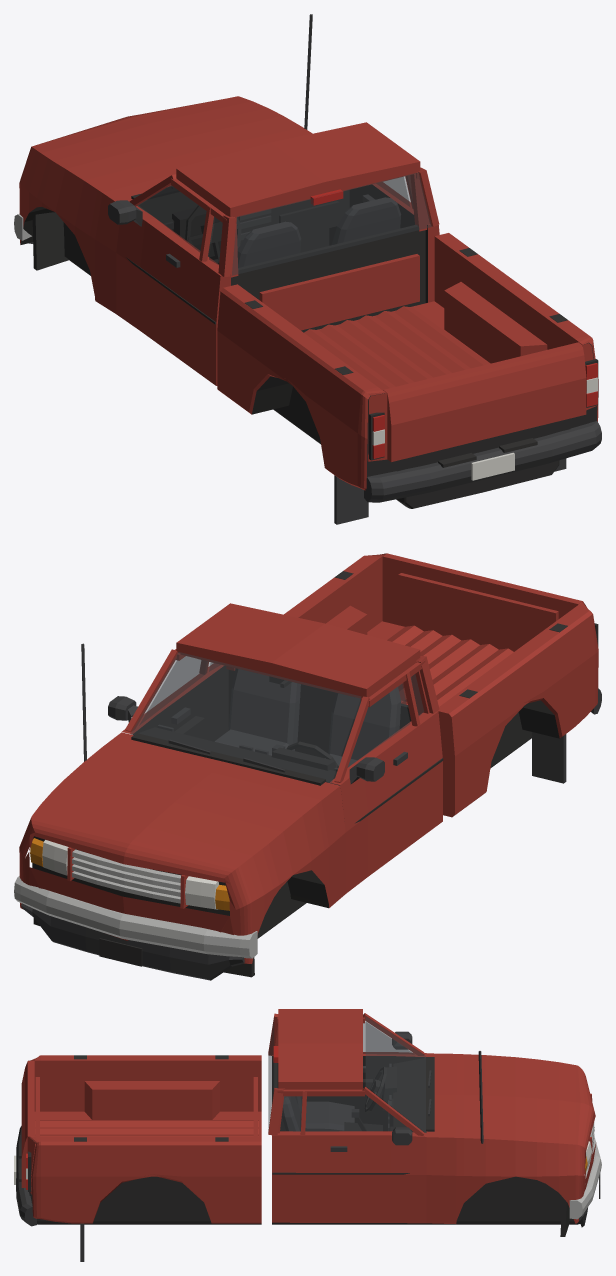
Rendered from ranger.glb.
3 views of the same model, one above another, from view 1: azimuth 30°, elevation 25°; view 2: azimuth 150°, elevation 25°; view 3: azimuth 270°, elevation 25° (orthographic). The views are drawn at different scales.
Parts seen in each view (by area): view 1: Ranger, RangerGlassPanes, SteeringWheel; view 2: Ranger, RangerGlassPanes; view 3: Ranger, RangerGlassPanes, SteeringWheel.
Boxes of the visible parts, x1,y1,x2,y2 form: Ranger: (14, 14, 601, 524); RangerGlassPanes: (139, 172, 431, 275); SteeringWheel: (185, 205, 241, 262); Ranger: (14, 553, 601, 980); RangerGlassPanes: (130, 652, 423, 783); Ranger: (14, 1009, 601, 1261); RangerGlassPanes: (268, 1016, 426, 1132); SteeringWheel: (364, 1067, 386, 1113).
Size of the model in its own units: 1.89 by 1.82 by 4.61.
